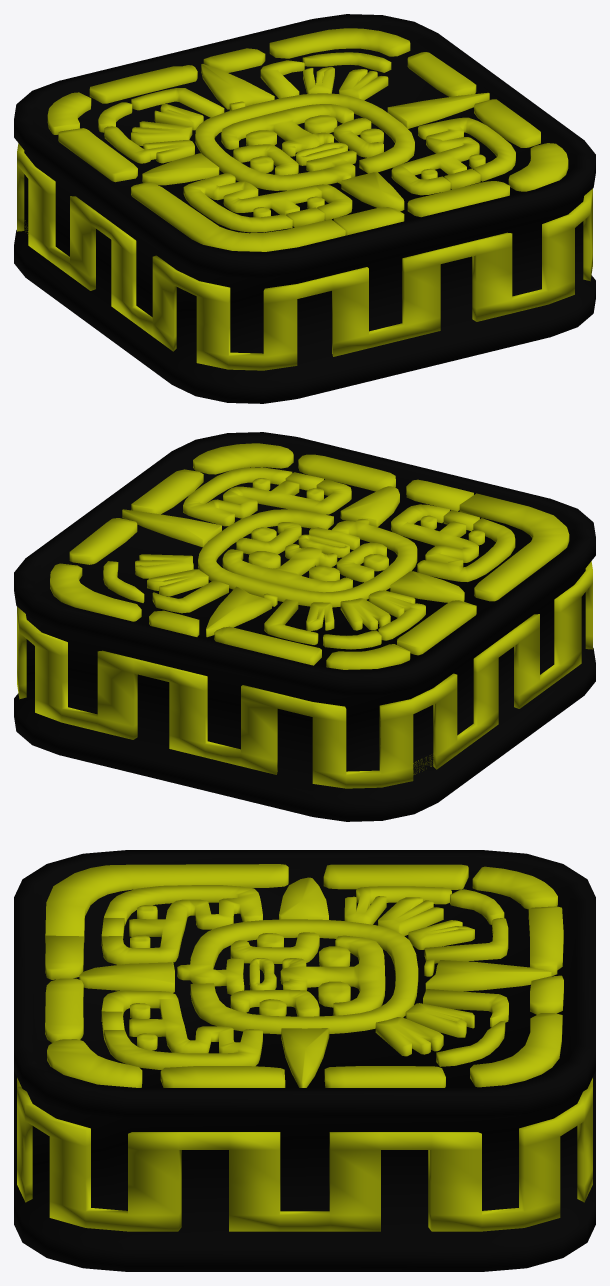
Rendered from Dark.gltf.
3 renders of one model, top to bottom at view 1: azimuth 30°, elevation 25°; view 2: azimuth 150°, elevation 25°; view 3: azimuth 270°, elevation 25°, orthographic. The views are drawn at different scales.
Parts seen in each view (by area): view 1: Base, Inka Top, Side; view 2: Base, Inka Top, Side; view 3: Base, Inka Top, Side.
Boxes of the visible parts, x1,y1,x2,y2 form: Base: (14, 14, 595, 403); Inka Top: (47, 28, 568, 251); Side: (17, 143, 592, 370); Base: (14, 432, 595, 821); Inka Top: (50, 443, 569, 669); Side: (17, 561, 592, 788); Base: (14, 850, 595, 1271); Inka Top: (45, 864, 563, 1087); Side: (17, 1078, 592, 1231).
Bounding box in the file's own units: 3 × 1 × 3.
